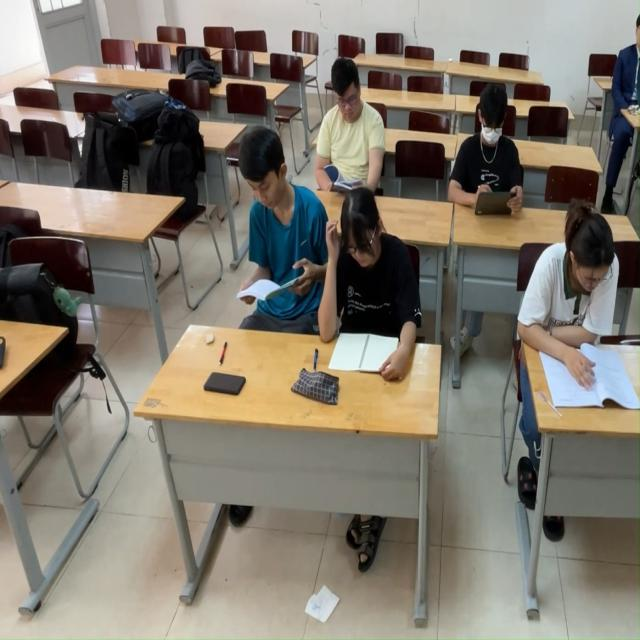read: (529, 206, 633, 426), (326, 187, 419, 390), (231, 131, 320, 339), (453, 87, 535, 226), (324, 63, 391, 199)
